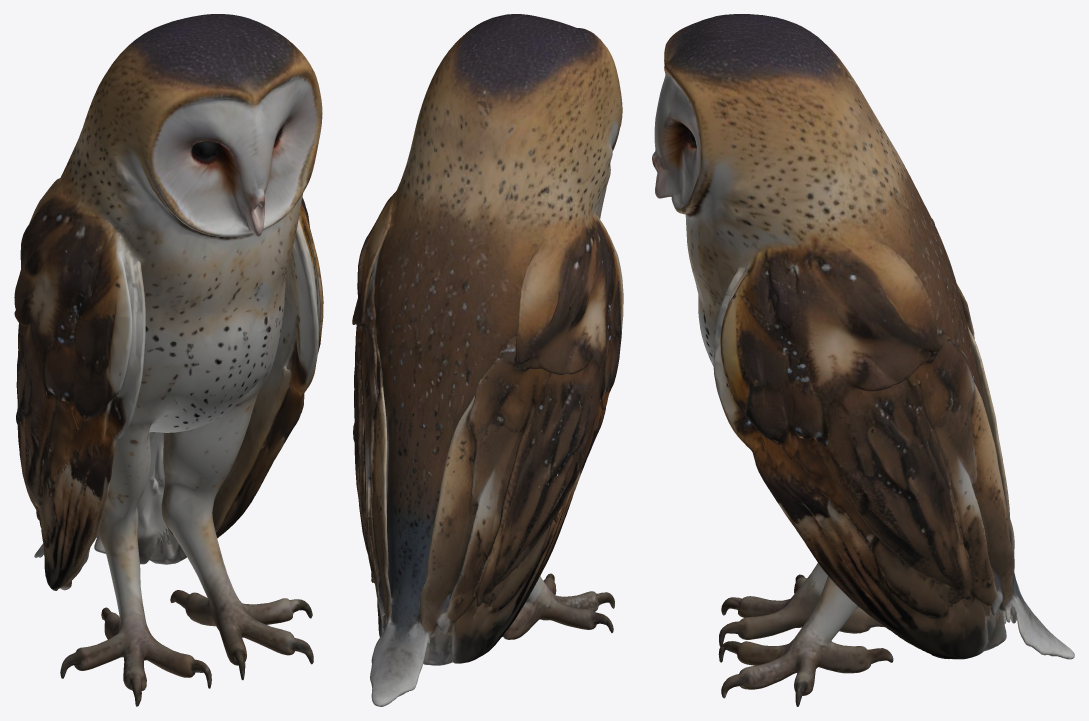
The picture shows the model from 3 angles, left to right: view 1: azimuth 30°, elevation 25°; view 2: azimuth 150°, elevation 25°; view 3: azimuth 270°, elevation 25°; orthographic projection. The views are drawn at different scales.
Parts seen in each view (by area): view 1: tripo_node_df25fa3a-b714-4ab7-927a-523feaa85b57; view 2: tripo_node_df25fa3a-b714-4ab7-927a-523feaa85b57; view 3: tripo_node_df25fa3a-b714-4ab7-927a-523feaa85b57.
Boxes of the visible parts, x1,y1,x2,y2 form: tripo_node_df25fa3a-b714-4ab7-927a-523feaa85b57: (14, 14, 323, 706); tripo_node_df25fa3a-b714-4ab7-927a-523feaa85b57: (352, 14, 623, 706); tripo_node_df25fa3a-b714-4ab7-927a-523feaa85b57: (652, 14, 1074, 706).
Bounding box in the file's own units: 0.421 × 0.9999 × 0.6102.
1 material, 1 textured.
